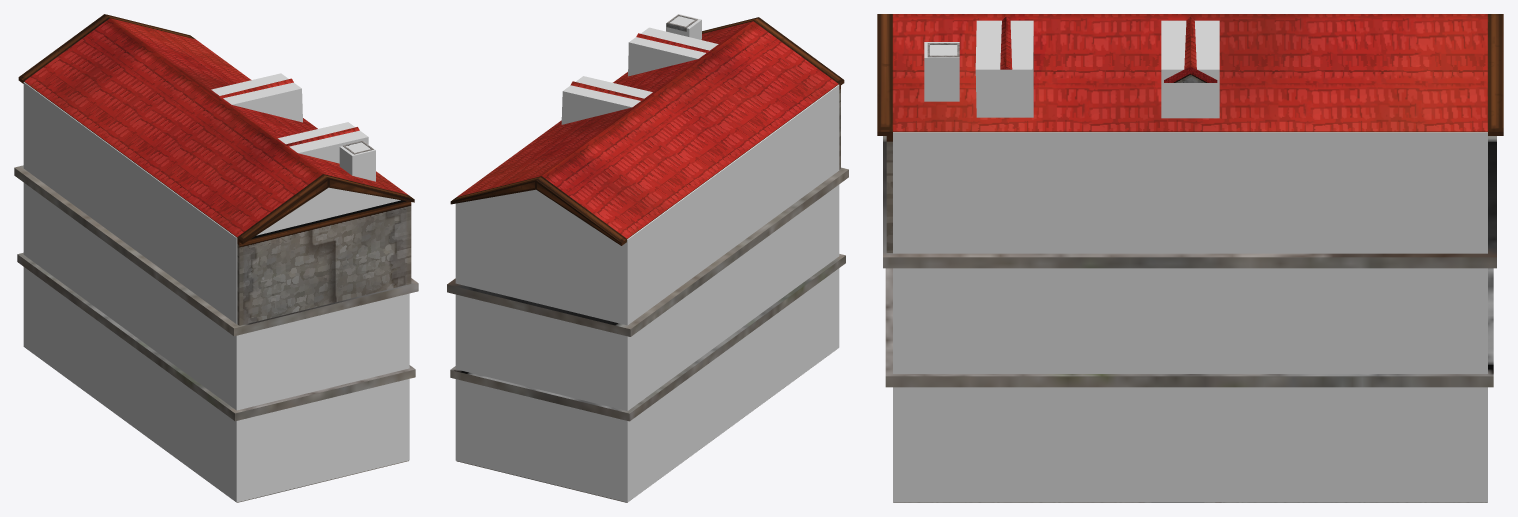
File: Building_1_Col.fbx
3 views of the same model, side by side, from view 1: azimuth 30°, elevation 25°; view 2: azimuth 150°, elevation 25°; view 3: azimuth 270°, elevation 25° (orthographic). The views are drawn at different scales.
Parts seen in each view (by area): view 1: Building_1_Col, Building1; view 2: Building_1_Col, Building1; view 3: Building_1_Col, Building1.
Boxes of the visible parts, box(x1,y1,x2,y2) form: Building_1_Col: box(23, 73, 409, 502); Building1: box(14, 14, 418, 502); Building_1_Col: box(455, 14, 839, 502); Building1: box(447, 14, 848, 502); Building_1_Col: box(893, 20, 1487, 502); Building1: box(877, 14, 1503, 502).
Bounding box in the file's own units: 214 × 341 × 449.
